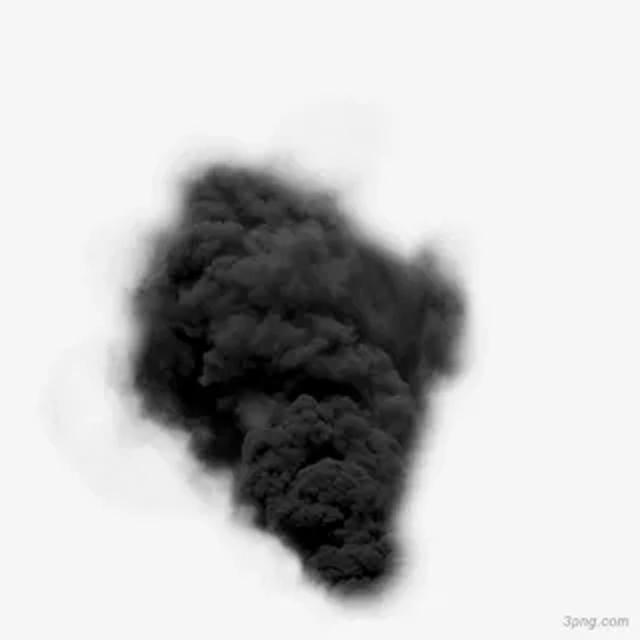smoke: (131, 154, 468, 596)
